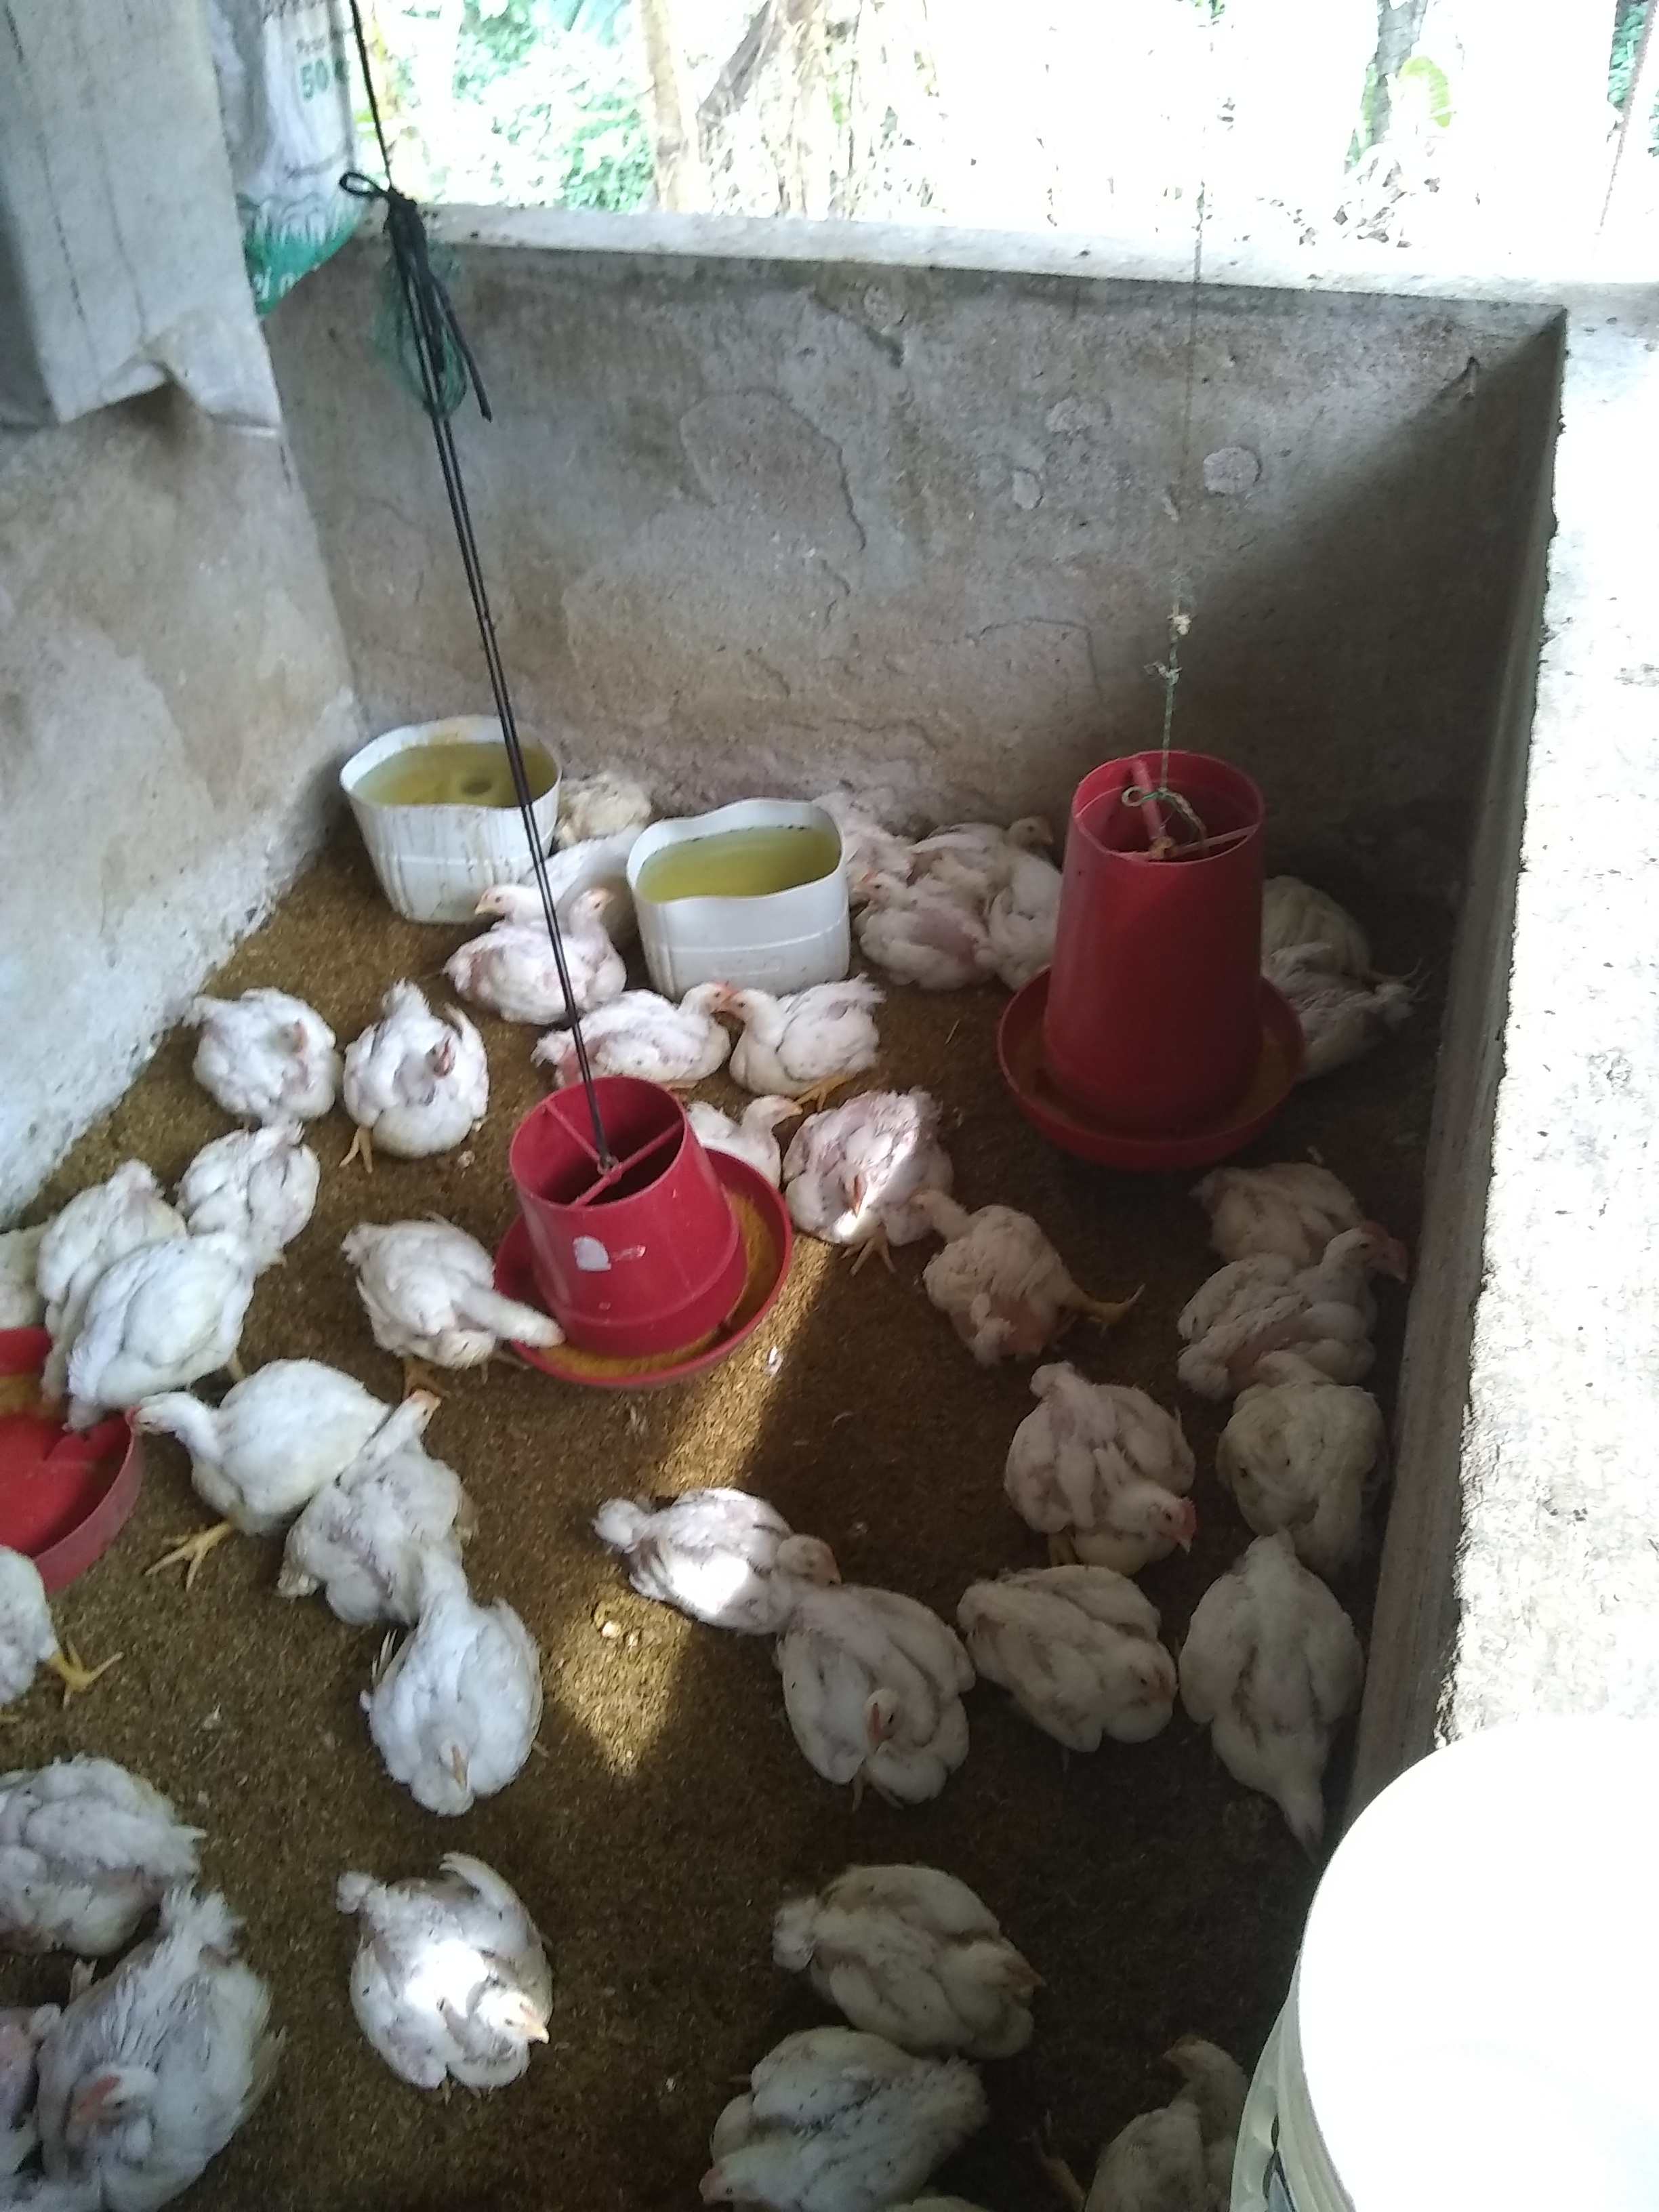Pollos: (694, 2045, 978, 2202), (362, 1881, 561, 2092), (59, 1949, 223, 2189), (1204, 1543, 1326, 1850), (821, 1871, 1046, 2031), (350, 1219, 552, 1369), (802, 1604, 962, 1792), (319, 1388, 465, 1588), (1229, 1355, 1387, 1534), (1188, 1219, 1382, 1366), (908, 1186, 1089, 1341), (403, 1592, 532, 1808), (1046, 1379, 1202, 1555), (1002, 1578, 1182, 1717), (127, 1371, 303, 1498), (179, 1113, 322, 1256), (1110, 2038, 1241, 2193), (627, 1500, 838, 1592), (552, 979, 732, 1085), (359, 1008, 488, 1141), (1270, 873, 1408, 995), (734, 974, 880, 1083), (838, 862, 974, 975), (89, 1280, 237, 1372), (802, 1106, 911, 1230), (207, 996, 331, 1106), (542, 773, 655, 848), (558, 883, 619, 974), (465, 871, 558, 921), (958, 810, 1054, 857), (721, 1089, 802, 1139)
